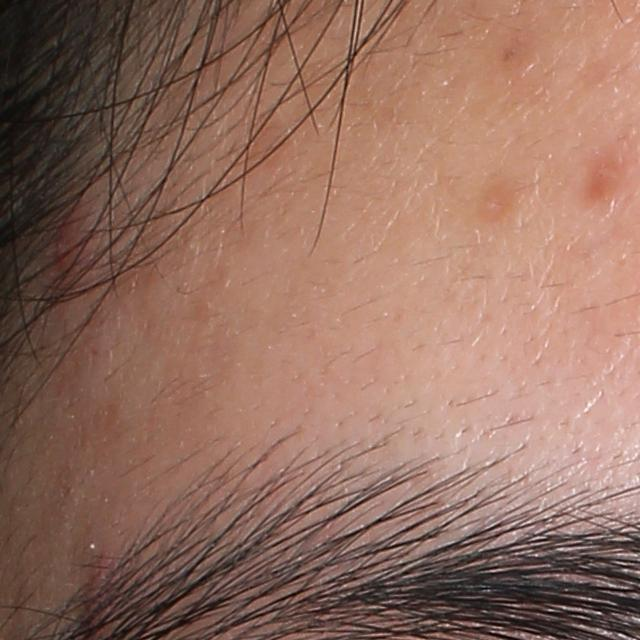papule: (52, 203, 96, 286)
